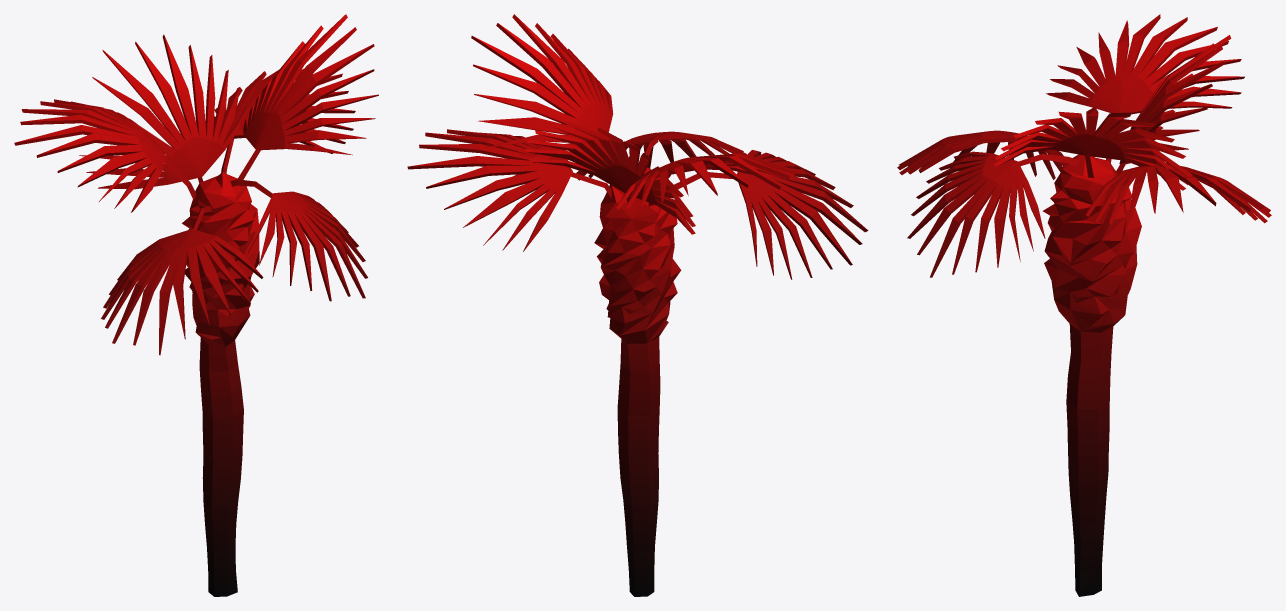
Rendered from TreeWindmill04.fbx.
3 views of the same model, side by side, from view 1: azimuth 30°, elevation 25°; view 2: azimuth 150°, elevation 25°; view 3: azimuth 270°, elevation 25° (orthographic). The views are drawn at different scales.
Parts seen in each view (by area): view 1: TreeWindmill04_LOD0; view 2: TreeWindmill04_LOD0; view 3: TreeWindmill04_LOD0.
Boxes of the visible parts, x1=… form: TreeWindmill04_LOD0: x1=14, y1=14, x2=378, y2=596; TreeWindmill04_LOD0: x1=407, y1=14, x2=868, y2=596; TreeWindmill04_LOD0: x1=897, y1=14, x2=1271, y2=596.
Size of what is drawn, in the model's own units: 430 by 640 by 392.
